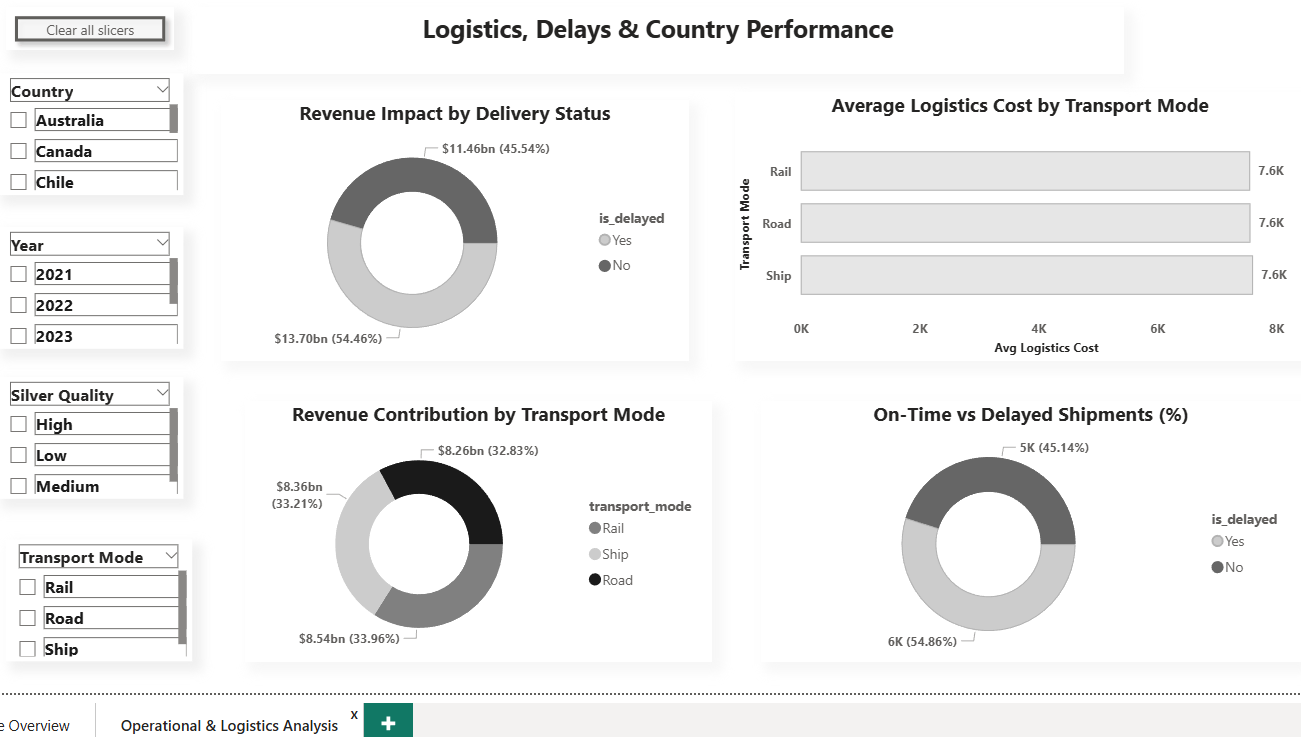

This screenshot's page, from the dashboard's own definition file:
{"tool":"powerbi","page":{"name":"Operational & Logistics Analysis","canvas":[1280,720],"ordinal":1},"visuals":[{"type":"textbox","box":[190.6,48.4,911.6,65.4],"z":0},{"type":"donutChart","title":"Revenue Impact by Delivery Status","fields":{"Category":["silver_transactions.is_delayed"],"Y":["Measure.Total Revenue"]},"box":[219,139.4,458,256],"z":1000},{"type":"barChart","title":"Average Logistics Cost by Transport Mode","fields":{"Category":["silver_transactions.transport_mode"],"Y":["Measure.Avg Logistics Cost"]},"box":[721.1,132.3,558.9,263.1],"z":2000},{"type":"donutChart","title":"On-Time vs Delayed Shipments (%)","fields":{"Category":["silver_transactions.is_delayed"],"Y":["Measure.Total Shipments"]},"box":[746.7,433.8,529.1,256],"z":3000},{"type":"donutChart","title":"Revenue Contribution by Transport Mode","fields":{"Category":["silver_transactions.transport_mode"],"Y":["Measure.Total Revenue"]},"box":[241.8,433.8,458,256],"z":4000},{"type":"slicer","title":"Year","fields":{"Values":["silver_transactions.mine_country"]},"box":[0,113.8,182,119.5],"z":5000},{"type":"slicer","title":"Year","fields":{"Values":["DateTable.Year"]},"box":[0,264.5,182,119.5],"z":6000},{"type":"slicer","title":"Year","fields":{"Values":["silver_transactions.silver_quality"]},"box":[0,411,182,119.5],"z":7000},{"type":"slicer","title":"Year","fields":{"Values":["silver_transactions.transport_mode"]},"box":[8.5,570.3,182,119.5],"z":8000},{"type":"actionButton","box":[8.6,48.9,165.1,42.8],"z":9000}]}

Visuals, with their boxes on the page's 1280x720 design canvas (x1, y1, x2, y2). These are canvas units, not pixel positions in the 1301x737 screenshot, which may show the page scaled, cropped or inside an application window:
textbox: locate(191, 48, 1102, 114)
"Revenue Impact by Delivery Status" donutChart: locate(219, 139, 677, 395)
"Average Logistics Cost by Transport Mode" barChart: locate(721, 132, 1280, 395)
"On-Time vs Delayed Shipments (%)" donutChart: locate(747, 434, 1276, 690)
"Revenue Contribution by Transport Mode" donutChart: locate(242, 434, 700, 690)
"Year" slicer: locate(0, 114, 182, 233)
"Year" slicer: locate(0, 264, 182, 384)
"Year" slicer: locate(0, 411, 182, 530)
"Year" slicer: locate(8, 570, 190, 690)
actionButton: locate(9, 49, 174, 92)
